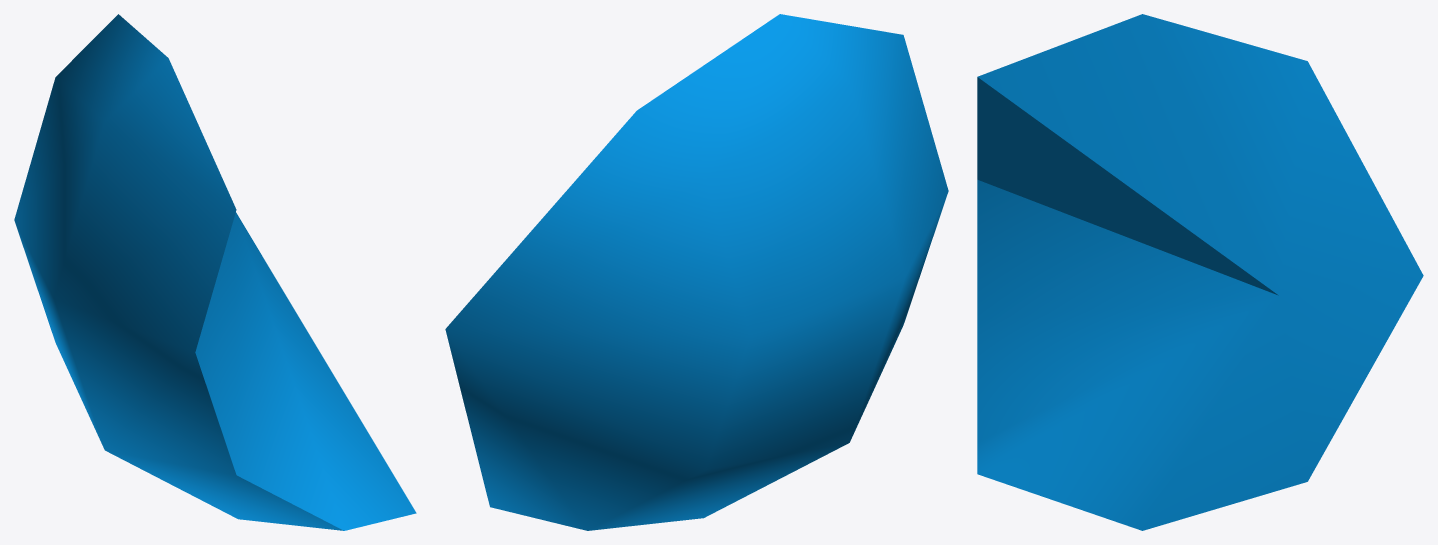
File: snowball_debris02.fbx
3 views of the same model, side by side, from view 1: azimuth 30°, elevation 25°; view 2: azimuth 150°, elevation 25°; view 3: azimuth 270°, elevation 25° (orthographic). The views are drawn at different scales.
Visible parts, largest first — view 1: snowball_debris02; view 2: snowball_debris02; view 3: snowball_debris02.
Part boxes in pixels (left/top/right/bottom): snowball_debris02: left=14, top=14, right=416, bottom=530; snowball_debris02: left=445, top=14, right=948, bottom=530; snowball_debris02: left=977, top=14, right=1423, bottom=530.
Size of the model in its own units: 0.1979 by 0.3056 by 0.2833.
